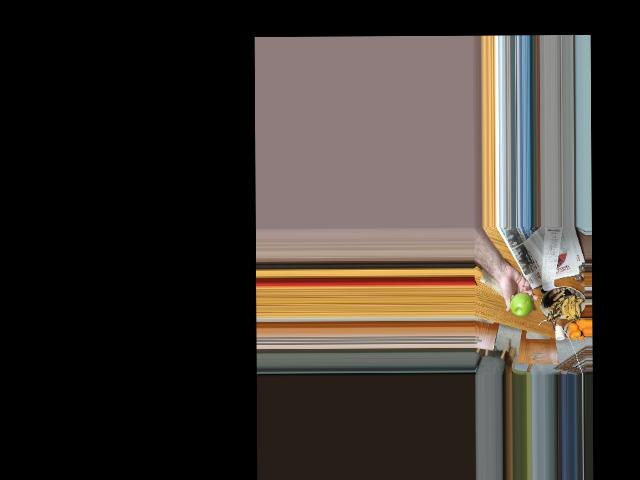apple: (509, 291, 534, 318)
